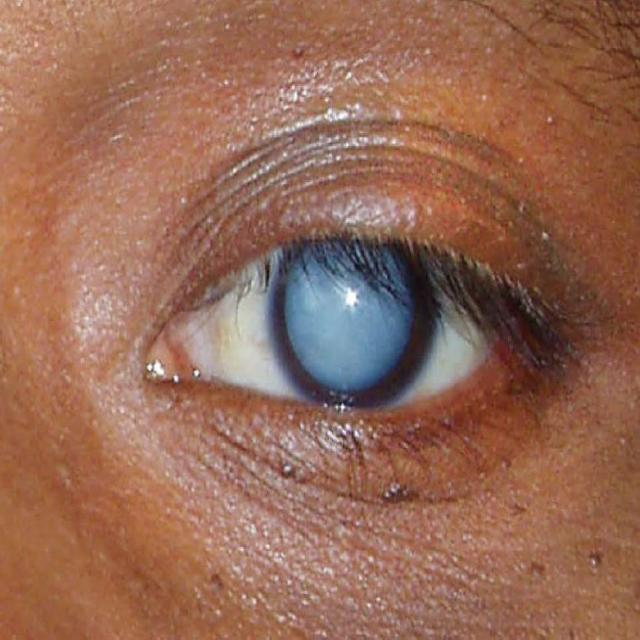Cataract: (123, 164, 583, 497)
